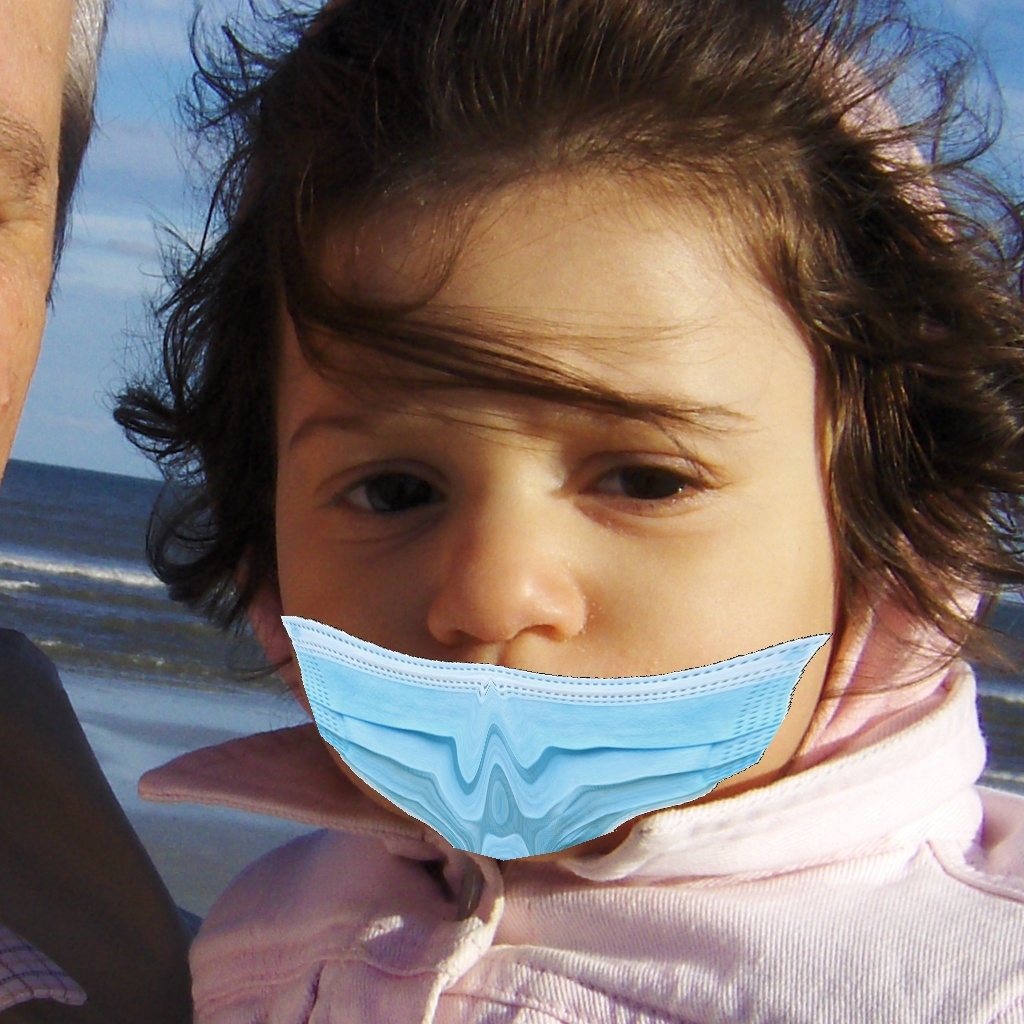mask_weared_incorrect: (243, 372, 857, 883)
